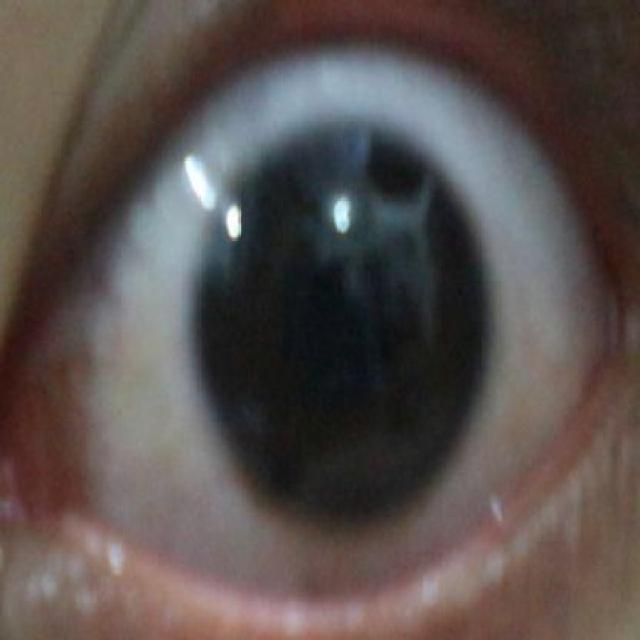Normal: (189, 120, 489, 530)
